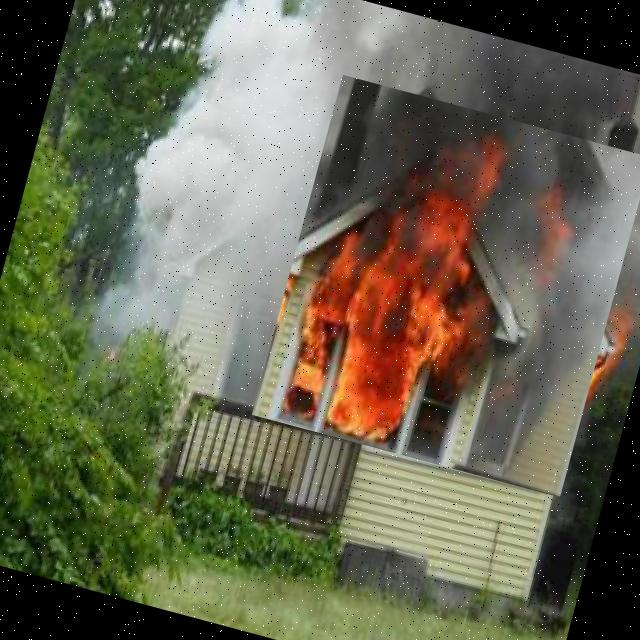fire: (251, 74, 640, 497)
